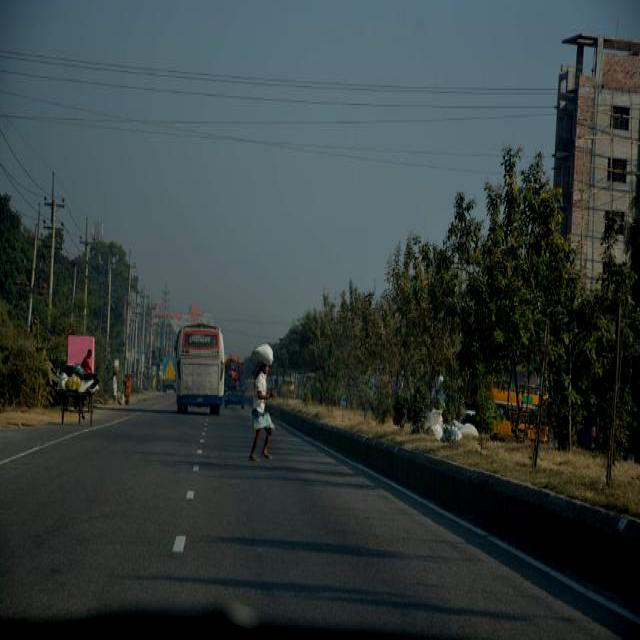BUS: (177, 324, 227, 417)
